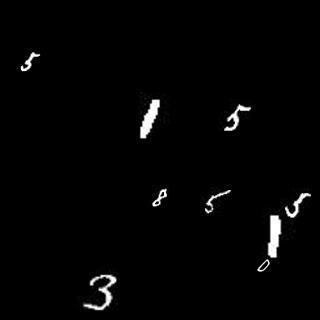eight: (151, 189, 171, 207)
five: (220, 102, 255, 133), (204, 183, 231, 216), (287, 185, 312, 218), (16, 51, 46, 76)
one: (138, 96, 166, 145), (266, 216, 286, 259)
three: (80, 271, 122, 314)
zero: (257, 258, 269, 276)
